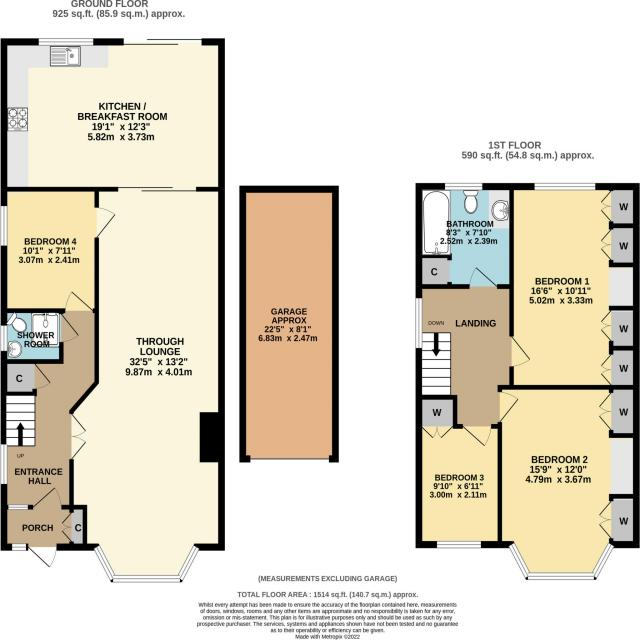DOOR: (27, 543, 58, 569), (509, 334, 533, 367), (32, 486, 64, 510), (460, 424, 493, 447), (94, 206, 117, 239), (59, 311, 82, 344), (467, 266, 499, 289), (64, 290, 94, 314), (498, 391, 520, 422)
DOUBLE DOOR: (69, 410, 88, 463)
ROOM: (69, 186, 225, 583), (497, 385, 640, 581), (416, 422, 502, 548)
SLIDING DOOR: (121, 36, 203, 47), (115, 184, 199, 194)
WINDOW: (92, 543, 200, 583), (507, 541, 616, 580), (532, 182, 597, 191), (37, 38, 95, 46), (415, 296, 423, 350), (0, 443, 9, 485), (435, 541, 482, 549), (445, 182, 484, 191), (0, 204, 8, 247), (0, 324, 8, 352), (10, 543, 27, 552)
